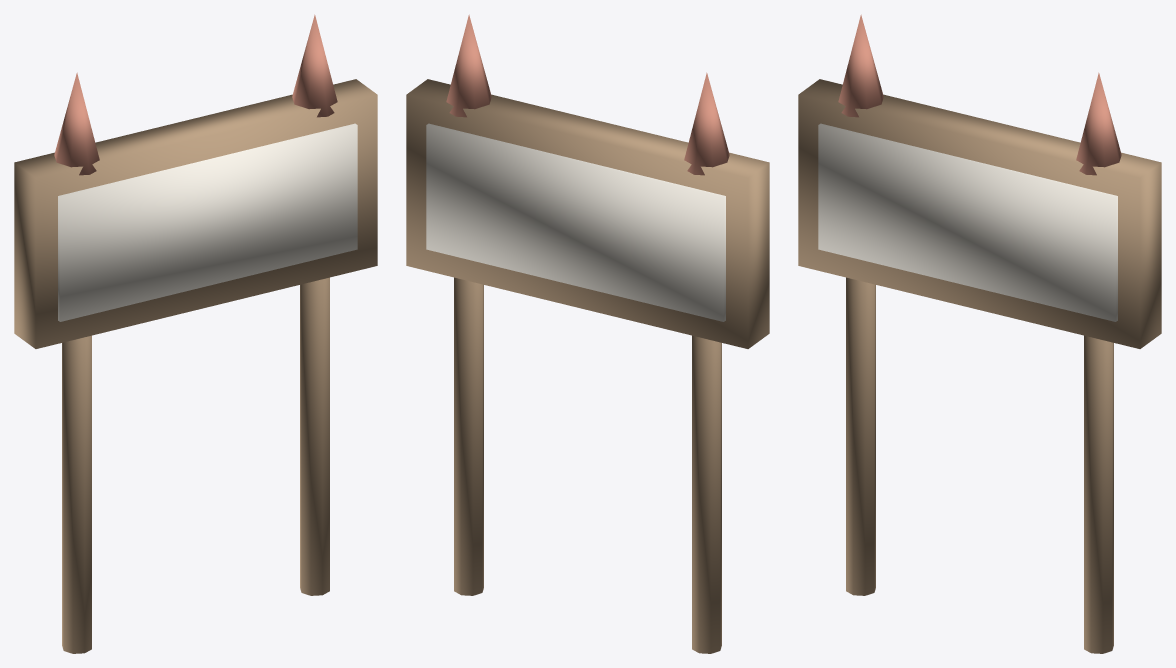
Rendered from elephant_camp_sign.glb.
3 renders of one model, left to right at view 1: azimuth 30°, elevation 25°; view 2: azimuth 150°, elevation 25°; view 3: azimuth 330°, elevation 25°, orthographic.
Parts seen in each view (by area): view 1: board_face, board, pole_r, pole_l, flag_l, flag_r; view 2: board_face, board, pole_r, pole_l, flag_l, flag_r; view 3: board_face, board, pole_l, pole_r, flag_r, flag_l.
Part boxes in pixels (x1,y1,x2,y2): board_face: (58, 123, 357, 321); board: (14, 79, 377, 348); pole_r: (300, 277, 329, 595); pole_l: (62, 335, 91, 653); flag_l: (54, 72, 99, 175); flag_r: (292, 14, 337, 117); board_face: (426, 123, 725, 321); board: (406, 79, 769, 348); pole_r: (454, 277, 483, 595); pole_l: (692, 335, 721, 653); flag_l: (684, 72, 729, 175); flag_r: (446, 14, 491, 117); board_face: (818, 123, 1117, 321); board: (798, 79, 1161, 348); pole_l: (846, 277, 875, 595); pole_r: (1084, 335, 1113, 653); flag_r: (1076, 72, 1121, 175); flag_l: (838, 14, 883, 117).
Size of the model in its own units: 0.46 by 0.74 by 0.06.
